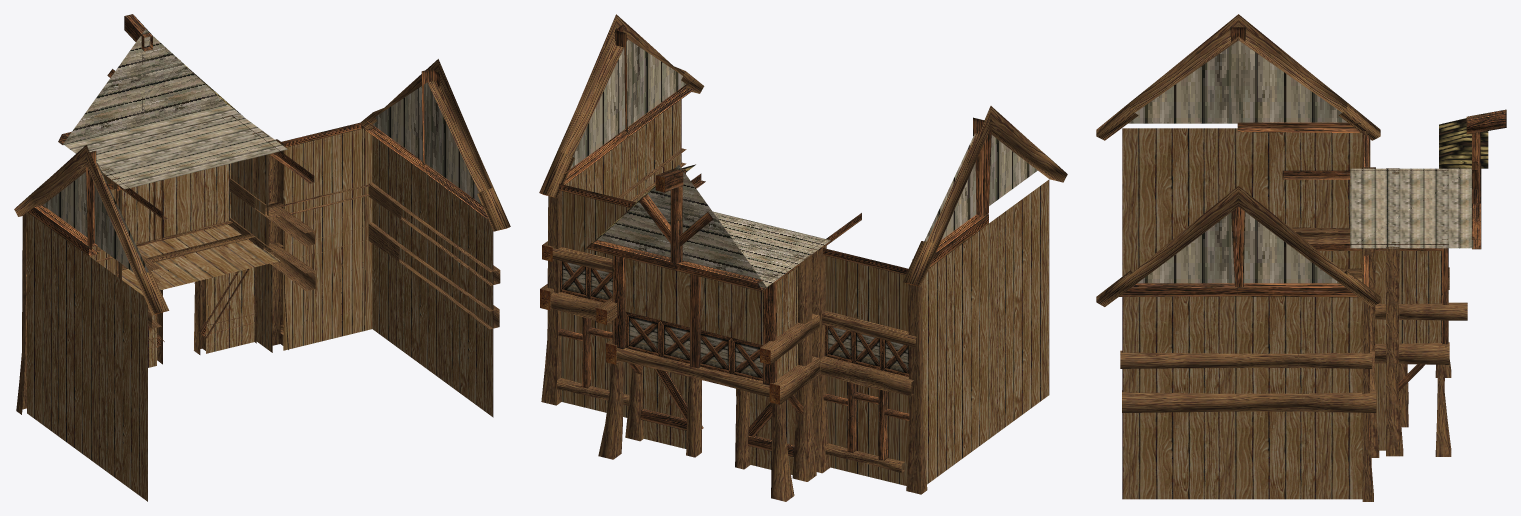
Rendered from LAKETOWN_EXTERIOR_PS_LT_BIGHOUSE534__GX.fbx.
The picture shows the model from 3 angles, left to right: view 1: azimuth 30°, elevation 25°; view 2: azimuth 150°, elevation 25°; view 3: azimuth 270°, elevation 25°; orthographic projection. The views are drawn at different scales.
Visible parts, largest first — view 1: LAKETOWN_EXTERIOR_PS_LT_BIGHOUSE534__GX; view 2: LAKETOWN_EXTERIOR_PS_LT_BIGHOUSE534__GX; view 3: LAKETOWN_EXTERIOR_PS_LT_BIGHOUSE534__GX.
Boxes of the visible parts, bbox=[...] form: LAKETOWN_EXTERIOR_PS_LT_BIGHOUSE534__GX: bbox=[14, 14, 510, 501]; LAKETOWN_EXTERIOR_PS_LT_BIGHOUSE534__GX: bbox=[539, 14, 1067, 501]; LAKETOWN_EXTERIOR_PS_LT_BIGHOUSE534__GX: bbox=[1096, 14, 1506, 501].
Size of the model in its own units: 108815 by 91898 by 108313.
Materials: 8 (8 with a texture image).
